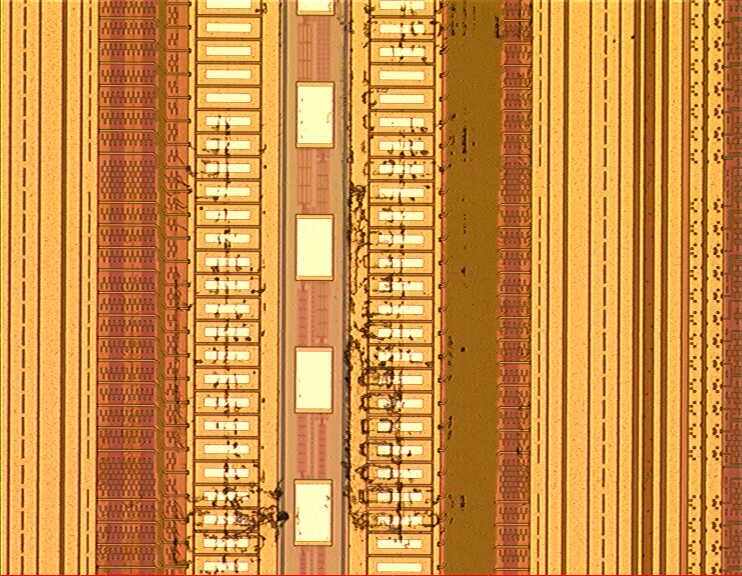SCRATCH: (169, 1, 506, 576)
